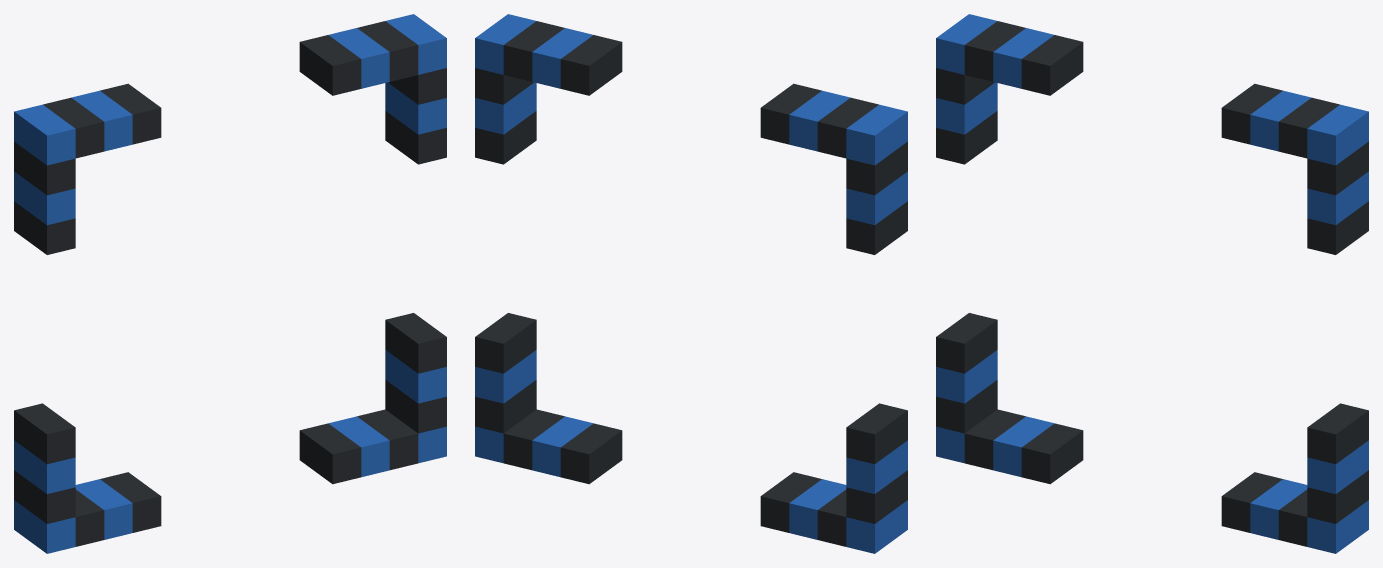
The model's file is ParkingSlotV2.fbx.
The picture shows the model from 3 angles, left to right: view 1: azimuth 30°, elevation 25°; view 2: azimuth 150°, elevation 25°; view 3: azimuth 330°, elevation 25°; orthographic projection.
Parts seen in each view (by area): view 1: generated; view 2: generated; view 3: generated.
Part boxes in pixels (x1,y1,x2,y2): generated: (14, 14, 446, 553); generated: (475, 14, 907, 553); generated: (936, 14, 1368, 553).
Bounding box in the file's own units: 140 × 140 × 20.
